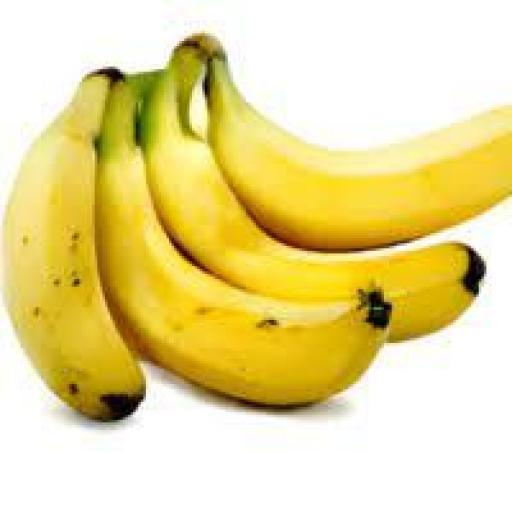banana: (141, 36, 483, 340), (98, 82, 391, 404), (205, 44, 511, 250), (3, 70, 145, 419)
